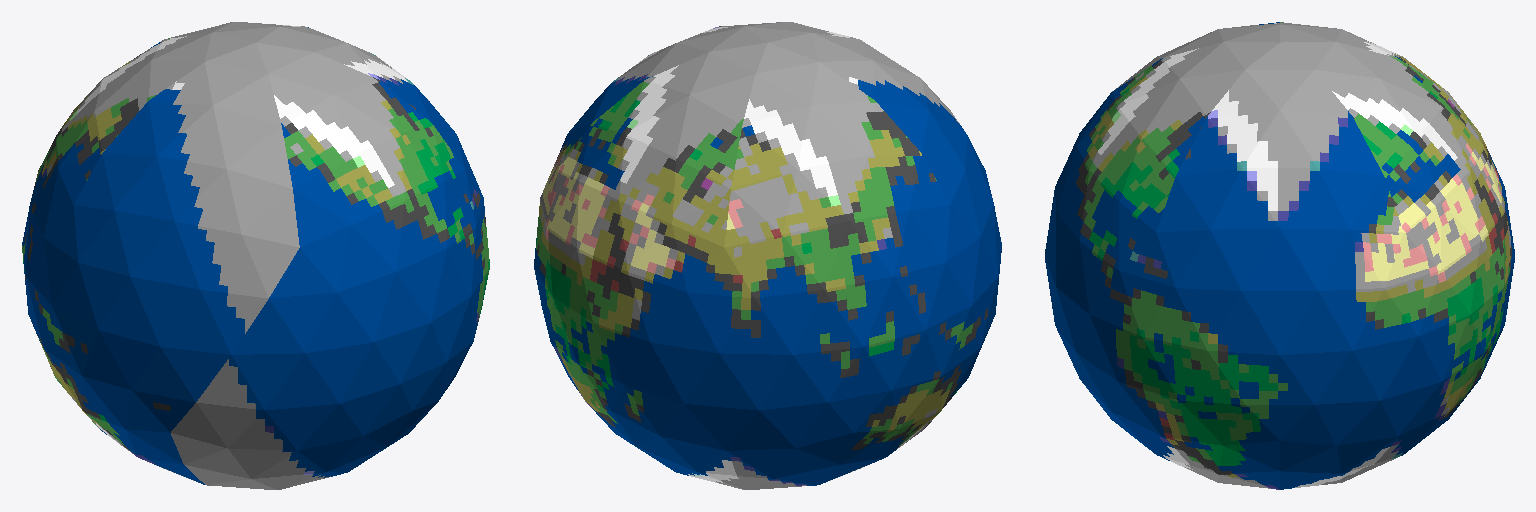
3 views of the same model, side by side, from view 1: azimuth 30°, elevation 25°; view 2: azimuth 150°, elevation 25°; view 3: azimuth 270°, elevation 25° (orthographic).
Parts seen in each view (by area): view 1: icoearth2_Icosphere; view 2: icoearth2_Icosphere; view 3: icoearth2_Icosphere.
Boxes of the visible parts, <box> form: icoearth2_Icosphere: <box>22,22,489,489</box>; icoearth2_Icosphere: <box>534,22,1001,489</box>; icoearth2_Icosphere: <box>1045,22,1514,489</box>.
Size of the model in its own units: 2 by 2 by 2.
Materials: 1 (1 with a texture image).